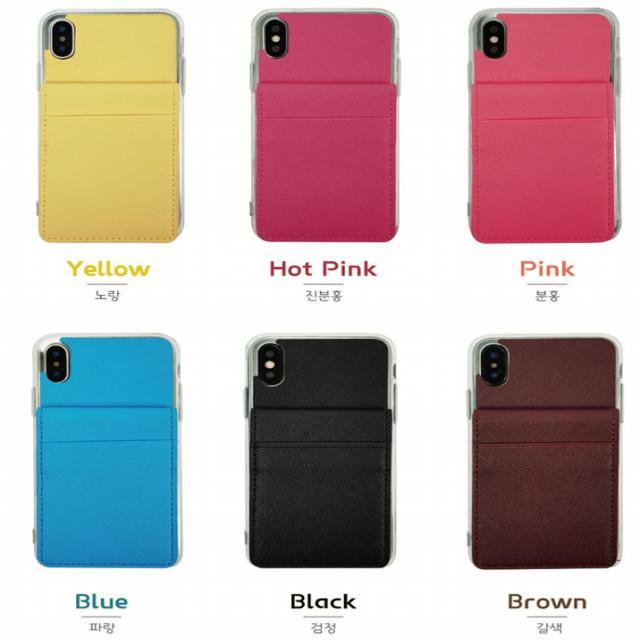phone: (466, 334, 624, 570), (466, 8, 621, 243), (30, 332, 183, 568), (245, 333, 397, 569), (248, 9, 401, 243), (35, 9, 186, 241)
